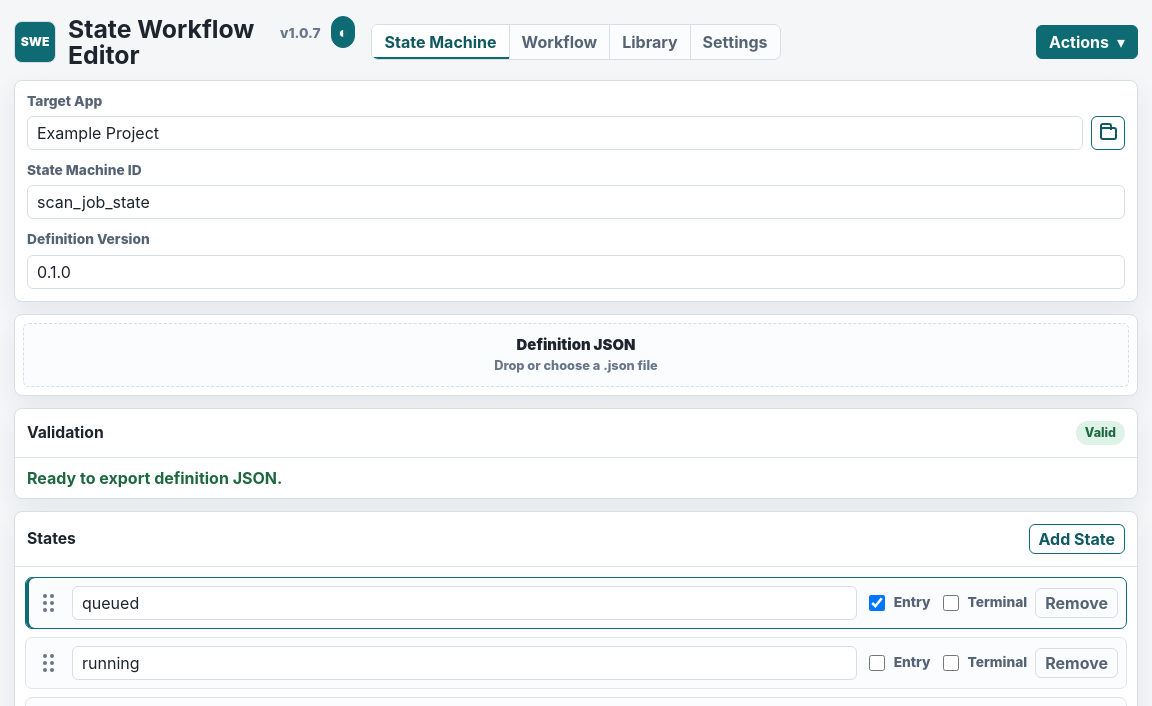
Test case: App › saves state-machine and workflow definitions through the Library page
What coordinates should you click on to do the following:
click the button "Library"
I would click on:
 (650, 42)
Its box is [610,25,691,59].
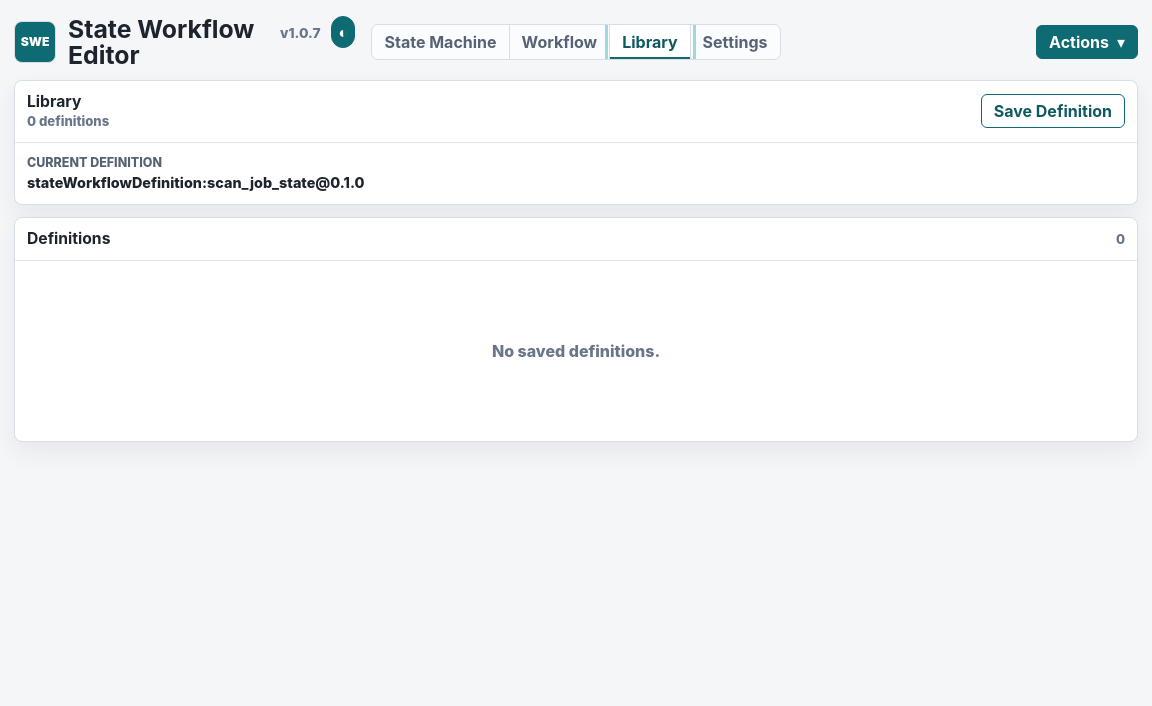
Check: the text "stateWorkflowDefinition:scan_job_state@0.1.0" is shown, box [27,174,364,191]
What coordinates should you click on to do the following:
click the button "Save Definition"
I would click on:
 (1053, 111)
Its box is [981,94,1125,128].
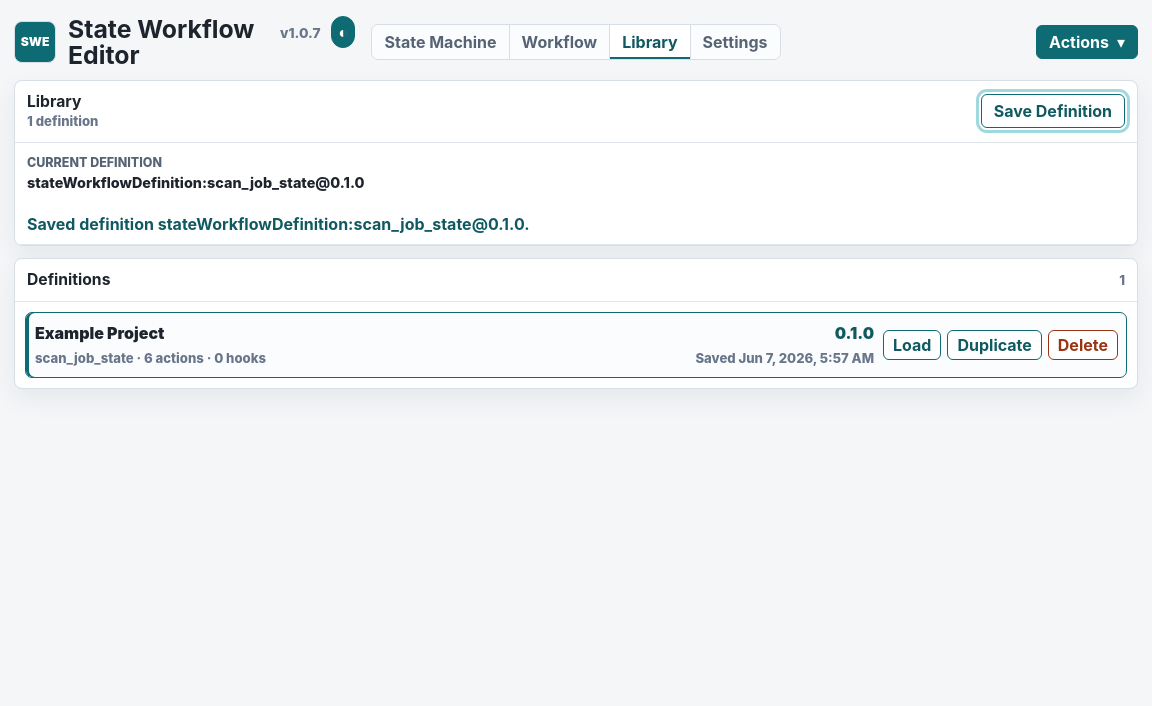
Check: the text "stateWorkflowDefinition:scan_job_state@0.1.0" is shown, box [27,174,364,191]
Check: the text "Saved definition stateWorkflowDefinition:scan_job_state@0.1.0." is shown, box [15,204,1137,245]
Check: the list named "Saved state workflow definitions" is shown, box [25,312,1127,378]
